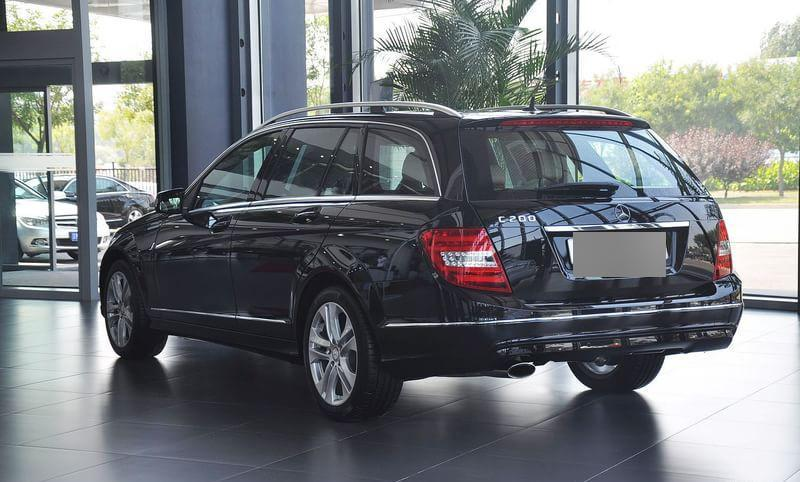Wagon: (98, 95, 744, 421)
